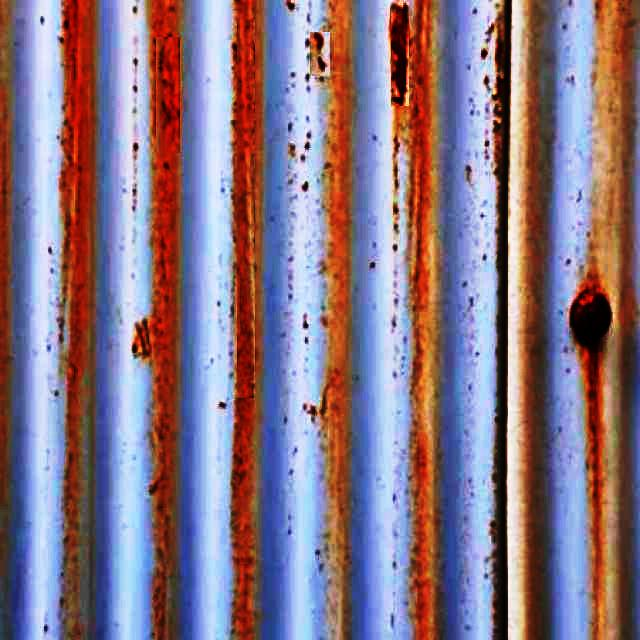Corrosion: (62, 0, 94, 640), (233, 0, 258, 640), (151, 0, 180, 526), (572, 287, 612, 566), (573, 289, 612, 344), (391, 3, 409, 104), (497, 43, 506, 96)
